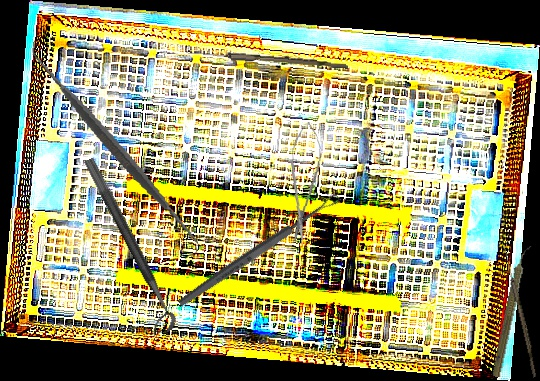Fixation Ring: (68, 156, 181, 339)
Handpiece: (489, 243, 534, 379)
Micro Scissor: (283, 120, 324, 246)
Spatula Surgical: (4, 40, 226, 254)
Surgical Spoon: (176, 192, 342, 309), (500, 244, 540, 378), (185, 49, 349, 69)
